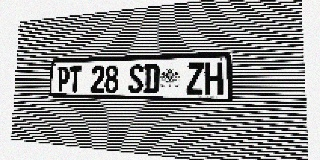2: (91, 65, 105, 93)
8: (104, 65, 119, 93)
D: (144, 64, 159, 94)
H: (204, 62, 223, 95)
P: (57, 66, 70, 92)
S: (128, 64, 144, 94)
T: (69, 66, 82, 92)
Z: (186, 63, 204, 95)
